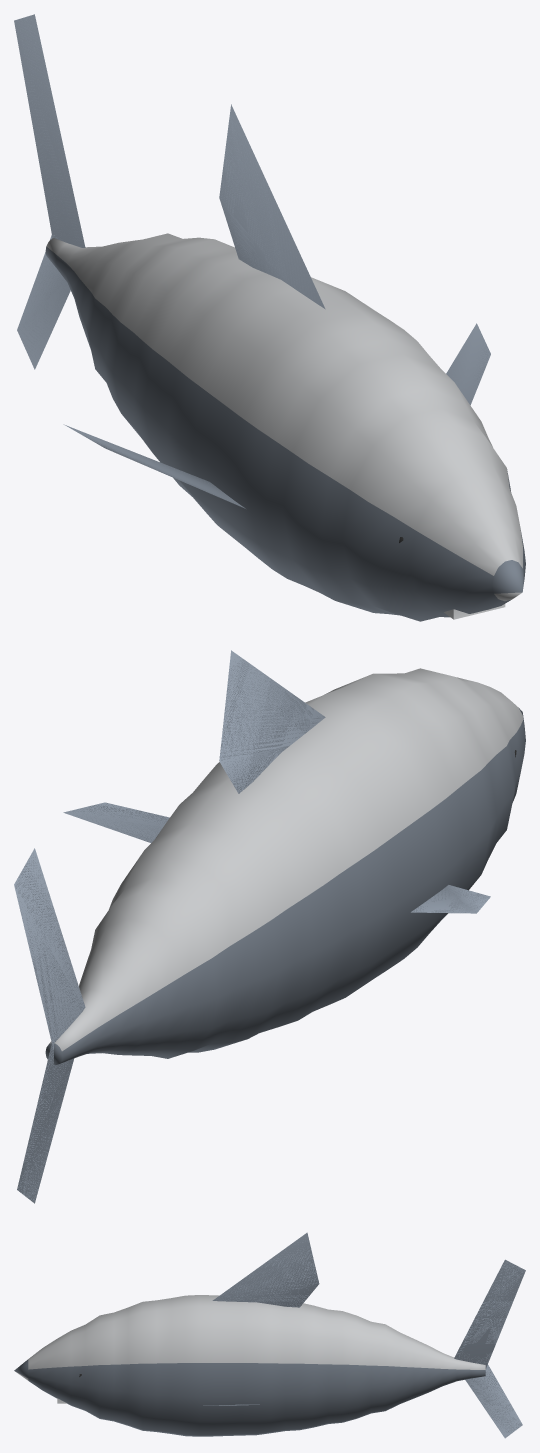
The model's file is shark_far.0725980a.glb.
3 renders of one model, top to bottom at view 1: azimuth 30°, elevation 25°; view 2: azimuth 150°, elevation 25°; view 3: azimuth 270°, elevation 25°, orthographic. The views are drawn at different scales.
Parts seen in each view (by area): view 1: body, shark_tail, shark_pec_l, shark_pec_r; view 2: body, shark_tail, shark_pec_l, shark_pec_r; view 3: body, shark_tail.
Part boxes in pixels (bbox=[...]): body: bbox=[45, 104, 525, 621]; shark_tail: bbox=[14, 14, 85, 369]; shark_pec_l: bbox=[446, 323, 490, 405]; shark_pec_r: bbox=[63, 424, 245, 508]; body: bbox=[45, 650, 525, 1064]; shark_tail: bbox=[14, 848, 85, 1203]; shark_pec_l: bbox=[63, 802, 169, 842]; shark_pec_r: bbox=[411, 885, 490, 913]; body: bbox=[14, 1232, 485, 1436]; shark_tail: bbox=[454, 1259, 525, 1438].
Bounding box in the file's own units: 1.61 × 1.52 × 3.42.
